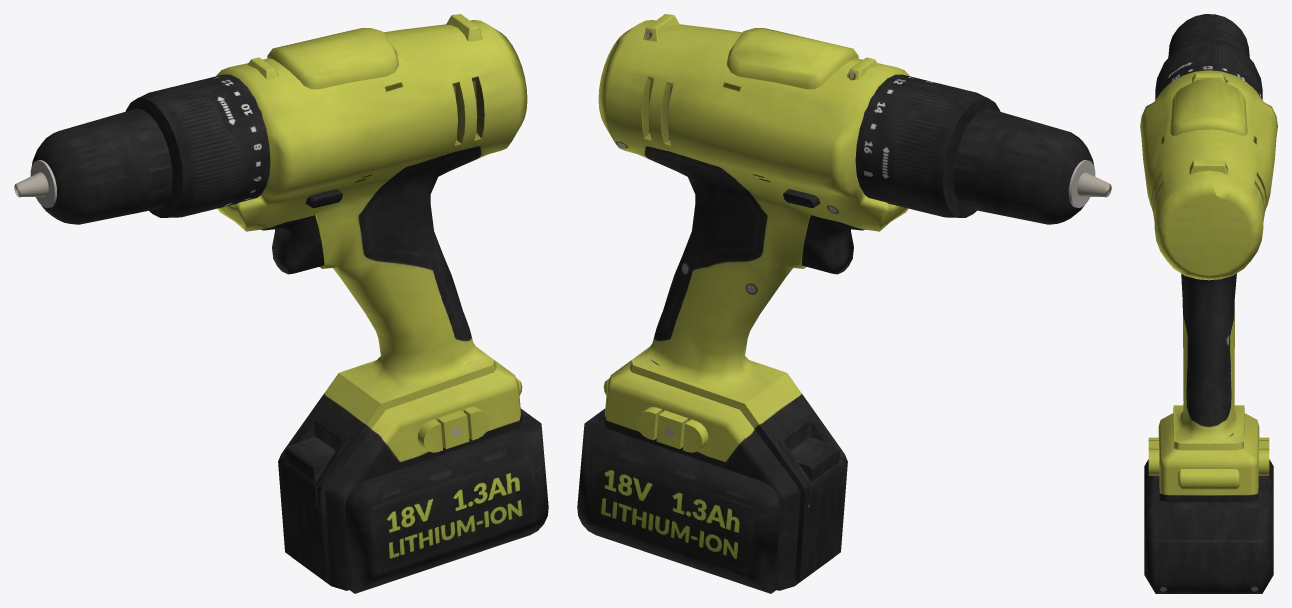
Rendered from Drill_01.glb.
3 views of the same model, side by side, from view 1: azimuth 30°, elevation 25°; view 2: azimuth 150°, elevation 25°; view 3: azimuth 270°, elevation 25° (orthographic). The views are drawn at different scales.
Parts seen in each view (by area): view 1: Drill_01; view 2: Drill_01; view 3: Drill_01.
Part boxes in pixels (x1,y1,x2,y2): Drill_01: [14, 14, 548, 593]; Drill_01: [577, 14, 1111, 593]; Drill_01: [1140, 14, 1277, 593].
Bounding box in the file's own units: 0.1829 × 0.1851 × 0.0524.
Materials: 1 (1 with a texture image).
